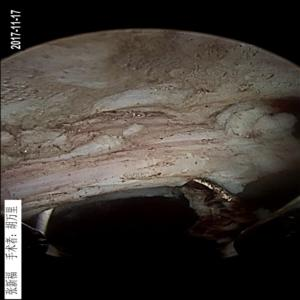film: (20, 108, 273, 201)
